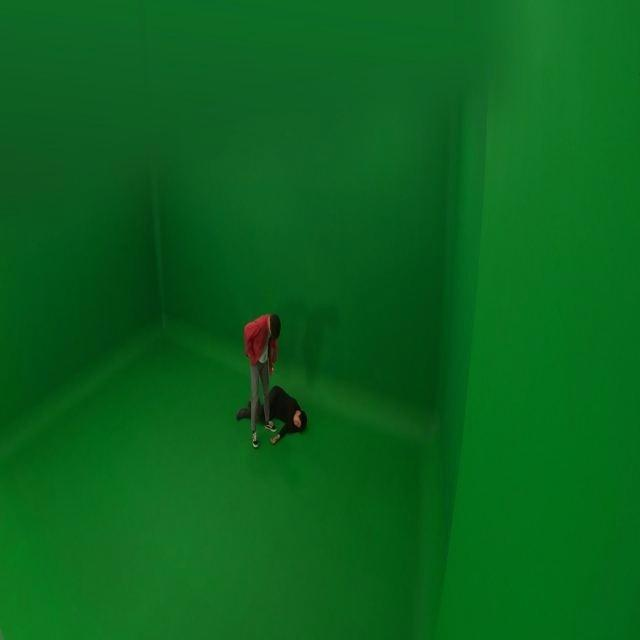fight: (236, 308, 310, 449)
